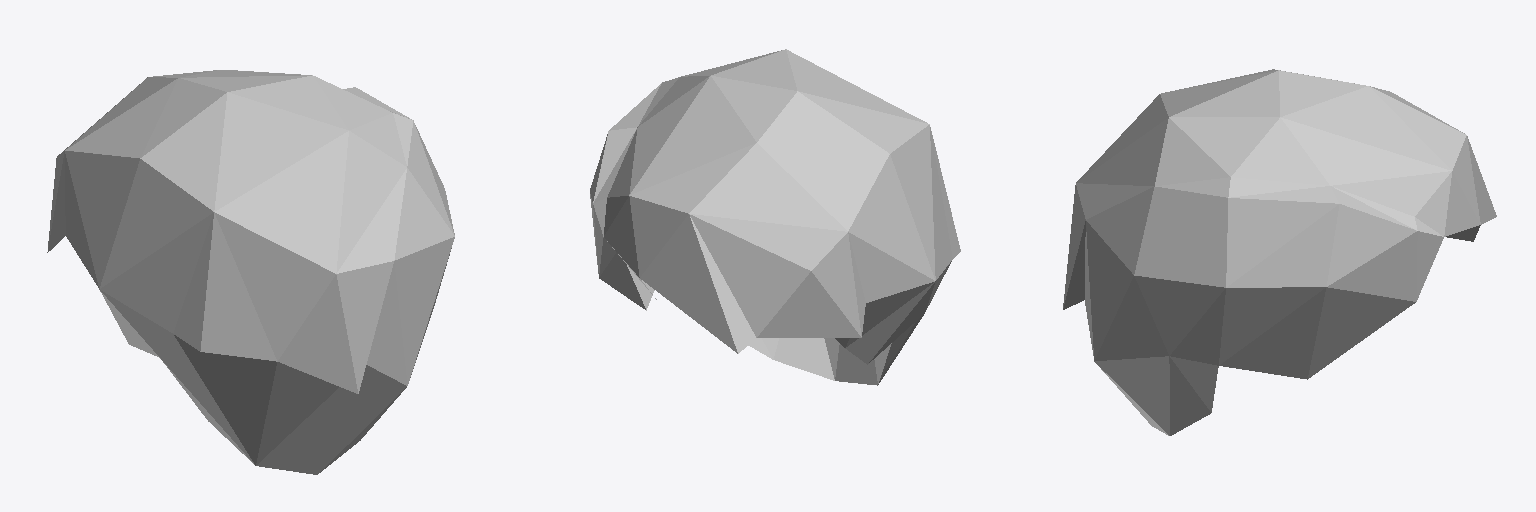
File: GenMaleHair03.obj
The picture shows the model from 3 angles: view 1: azimuth 30°, elevation 25°; view 2: azimuth 150°, elevation 25°; view 3: azimuth 270°, elevation 25°; orthographic projection.
Parts seen in each view (by area): view 1: material_0; view 2: material_0; view 3: material_0.
Part boxes in pixels (left/top/right/bottom): material_0: left=47, top=70, right=454, bottom=474; material_0: left=590, top=49, right=960, bottom=385; material_0: left=1063, top=69, right=1496, bottom=435.
Bounding box in the file's own units: 21.38 × 21.6 × 24.8.